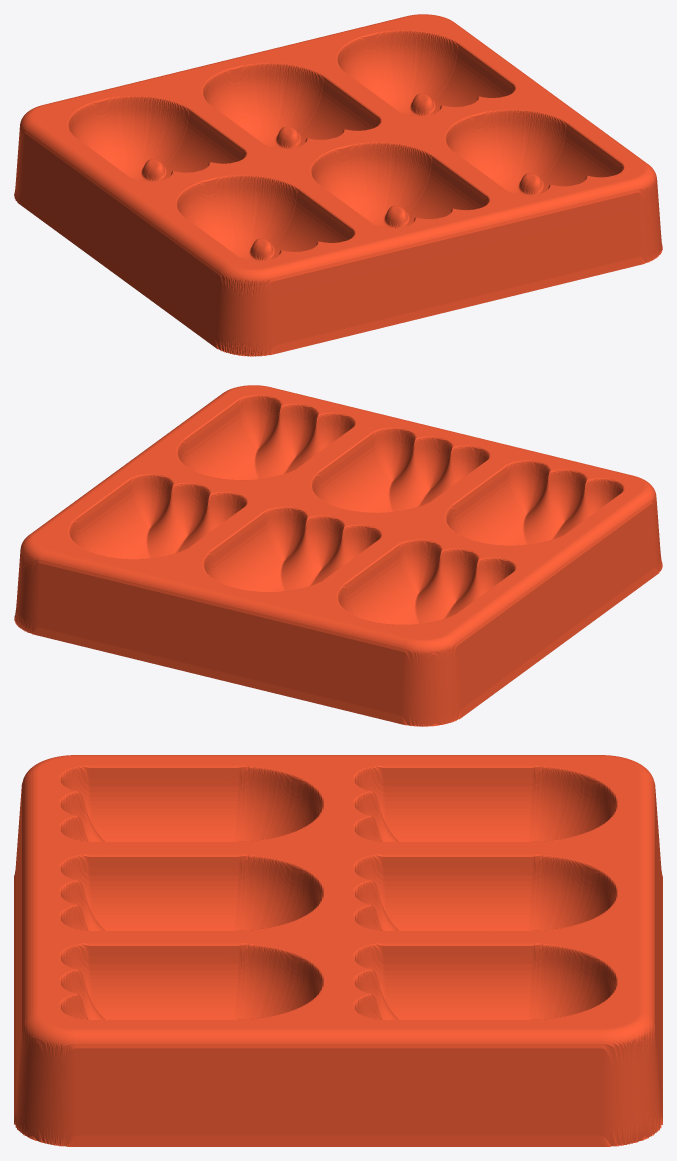
File: mold.glb
The picture shows the model from 3 angles, top to bottom: view 1: azimuth 30°, elevation 25°; view 2: azimuth 150°, elevation 25°; view 3: azimuth 270°, elevation 25°; orthographic projection. The views are drawn at different scales.
Visible parts, largest first — view 1: geometry_0; view 2: geometry_0; view 3: geometry_0.
Part boxes in pixels (left/top/right/bottom): geometry_0: left=14, top=14, right=662, bottom=356; geometry_0: left=14, top=385, right=662, bottom=726; geometry_0: left=14, top=755, right=662, bottom=1146.
Bounding box in the file's own units: 0.1019 × 0.0175 × 0.0955.
